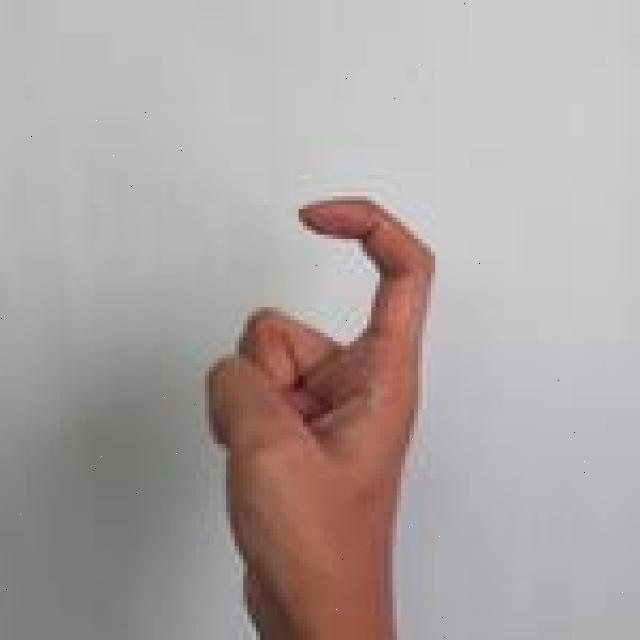X: (205, 189, 438, 640)
